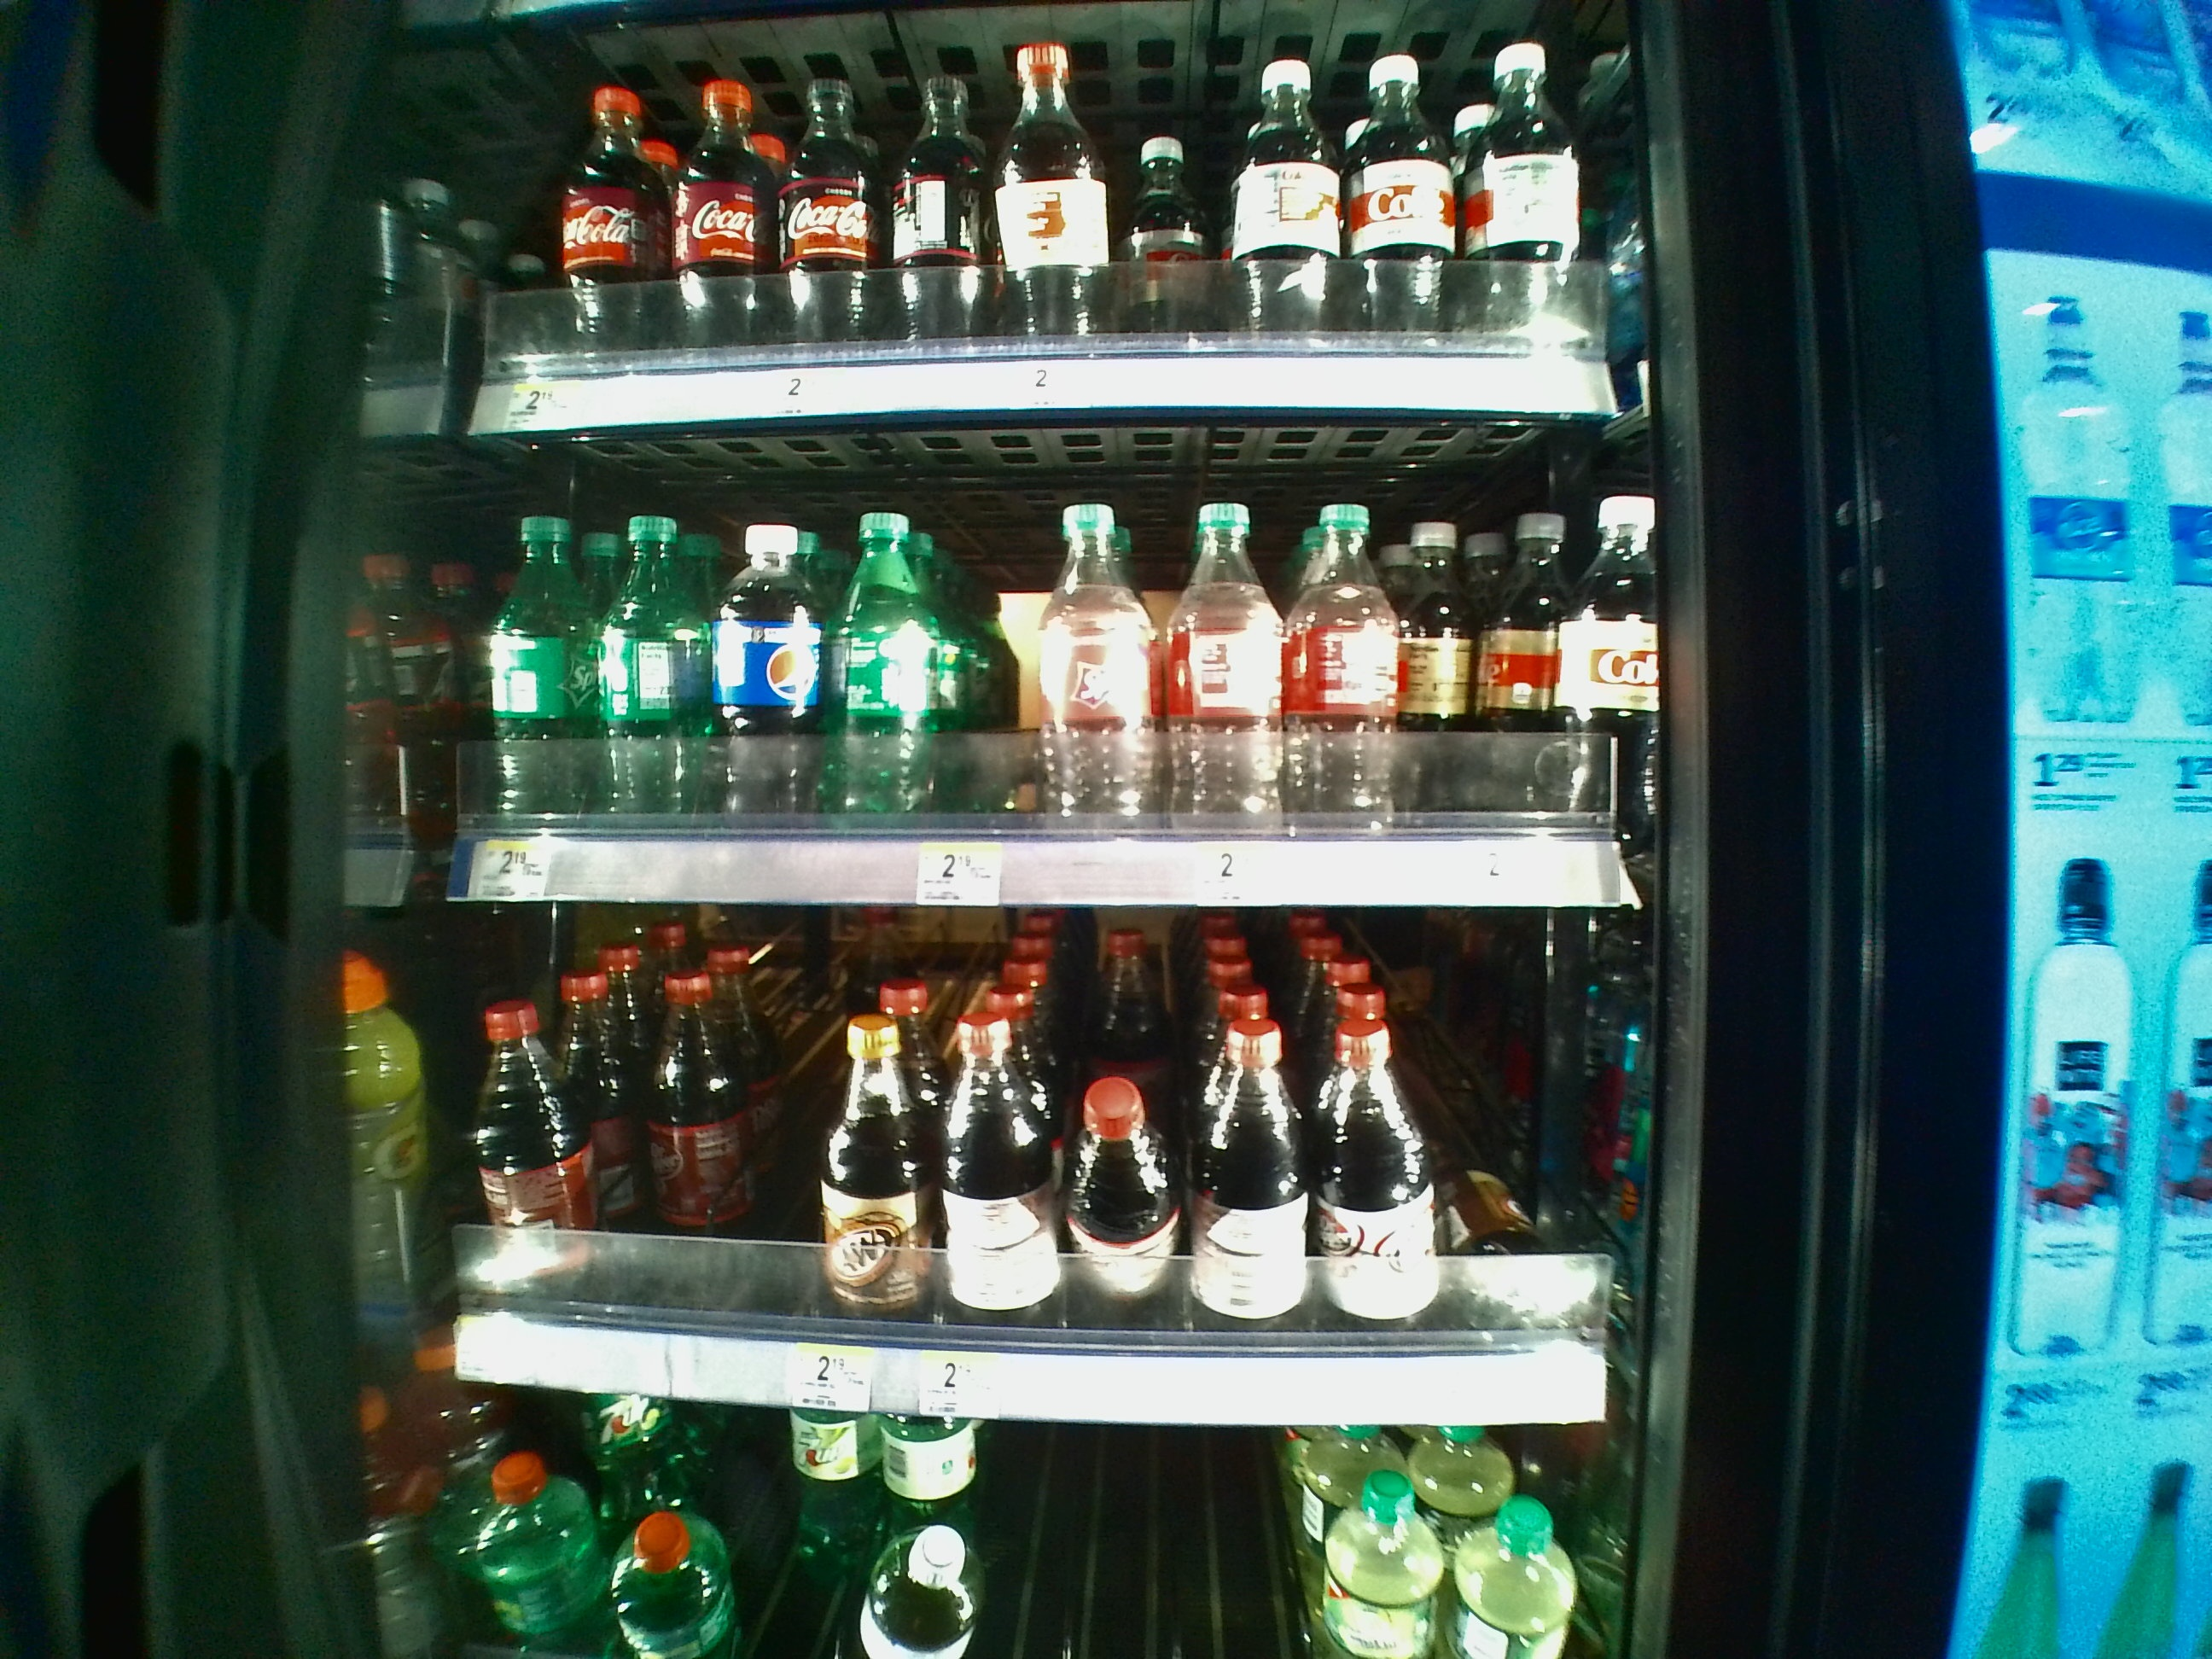shelf: (439, 922, 1656, 1452), (444, 441, 1655, 910)
